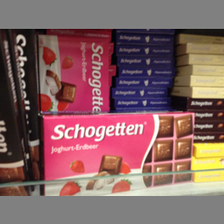chocolate: (43, 113, 194, 196), (38, 34, 115, 114)
